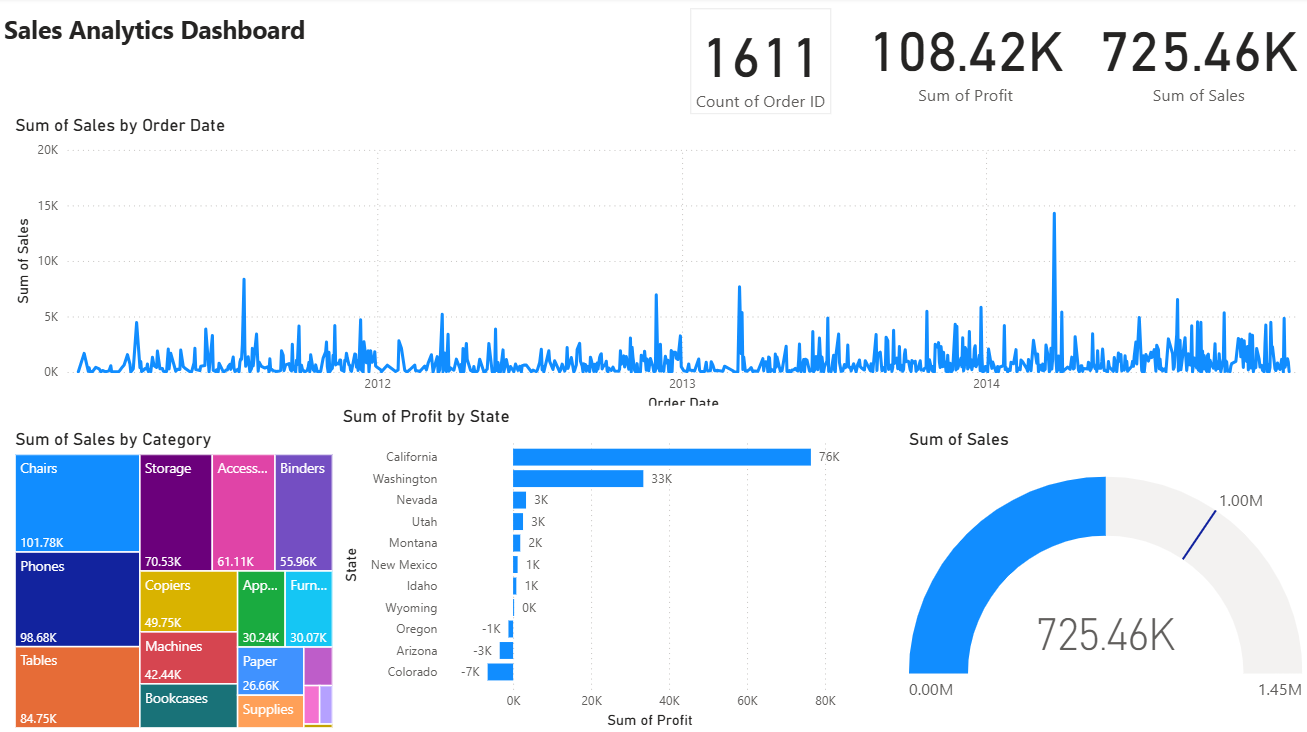

The page's visual inventory and layout, read from the dashboard file:
{"tool":"powerbi","page":{"name":"Page 1","canvas":[1280,720],"ordinal":0},"visuals":[{"type":"card","fields":{"Values":["Sum(Walmart.Sales)"]},"box":[1067.5,0,212.8,114.9],"z":0},{"type":"card","fields":{"Values":["Sum(Walmart.Profit)"]},"box":[841.3,0,209.1,114.9],"z":1000},{"type":"card","fields":{"Values":["Count(Walmart.Order ID)"]},"box":[676.2,11,138.2,103.9],"z":2000},{"type":"lineChart","fields":{"Category":["Walmart.Order Date"],"Y":["Sum(Walmart.Sales)"]},"box":[11,114.9,1269.3,295.9],"z":3000},{"type":"treemap","fields":{"Group":["Walmart.Category"],"Values":["Sum(Walmart.Sales)"]},"box":[11,421.9,320.4,298.4],"z":4000},{"type":"barChart","fields":{"Category":["Walmart.State"],"Y":["Sum(Walmart.Profit)"]},"box":[331.4,399.9,519.7,320.4],"z":5000},{"type":"gauge","fields":{"Y":["Sum(Walmart.Sales)"]},"box":[885.3,421.9,395,298.4],"z":6000},{"type":"textbox","box":[0,11,569.8,83.2],"z":7000}]}

Visuals, with their boxes in screenshot pixels (x1, y1, x2, y2), scaled from the page's 1280x720 canvas onto the 1307x732 screenshot:
card - Sum(Walmart.Sales): <bbox>1090, 0, 1306, 117</bbox>
card - Sum(Walmart.Profit): <bbox>859, 0, 1073, 117</bbox>
card - Count(Walmart.Order ID): <bbox>690, 11, 832, 117</bbox>
lineChart - Walmart.Order Date x Sum(Walmart.Sales): <bbox>11, 117, 1306, 418</bbox>
treemap - Walmart.Category x Sum(Walmart.Sales): <bbox>11, 429, 338, 731</bbox>
barChart - Walmart.State x Sum(Walmart.Profit): <bbox>338, 407, 869, 731</bbox>
gauge - Sum(Walmart.Sales): <bbox>904, 429, 1306, 731</bbox>
textbox: <bbox>0, 11, 582, 96</bbox>
